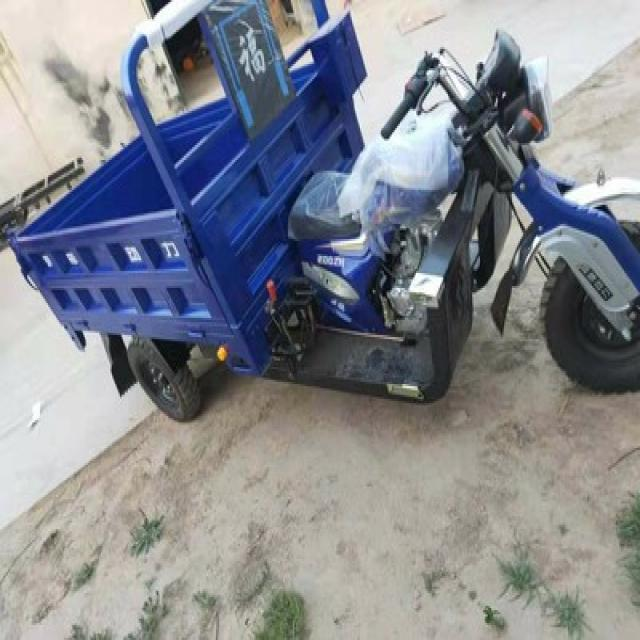tricycle: (5, 0, 638, 418)
